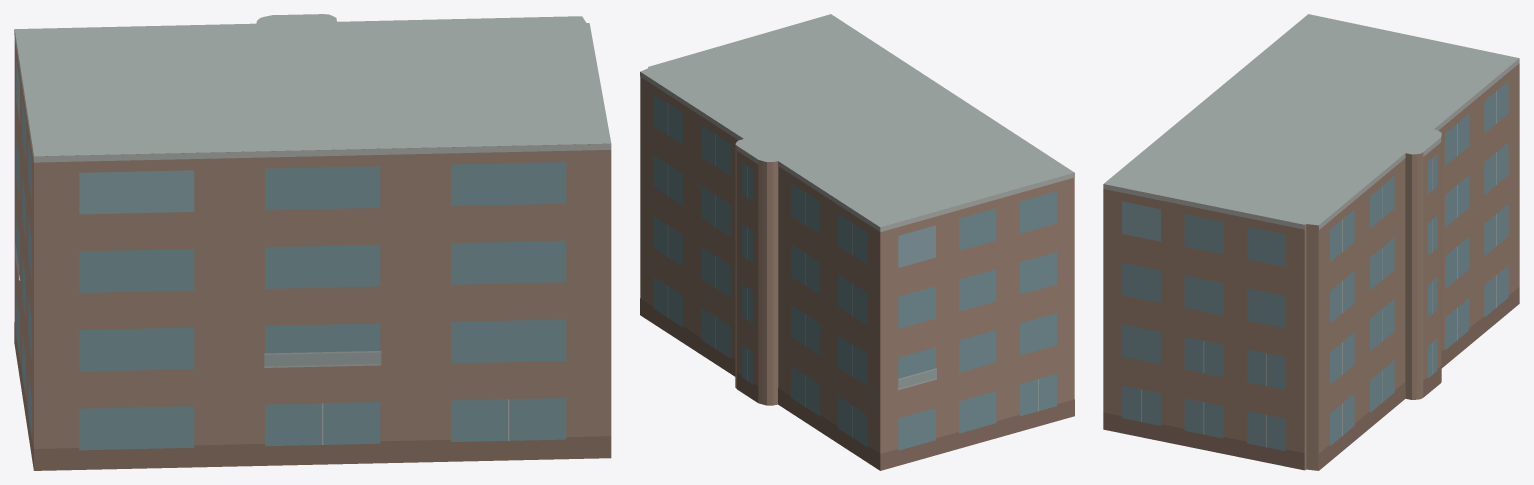
File: survey-upis-32884948.glb
The picture shows the model from 3 angles, left to right: view 1: azimuth 30°, elevation 25°; view 2: azimuth 150°, elevation 25°; view 3: azimuth 270°, elevation 25°; orthographic projection. The views are drawn at different scales.
Parts seen in each view (by area): view 1: survey-upis-32884948.tmp; view 2: survey-upis-32884948.tmp; view 3: survey-upis-32884948.tmp.
Part boxes in pixels (x1,y1,x2,y2): survey-upis-32884948.tmp: [14, 14, 611, 470]; survey-upis-32884948.tmp: [640, 14, 1074, 470]; survey-upis-32884948.tmp: [1103, 14, 1519, 470].
Size of the model in its own units: 22.71 by 12.3 by 18.9.
